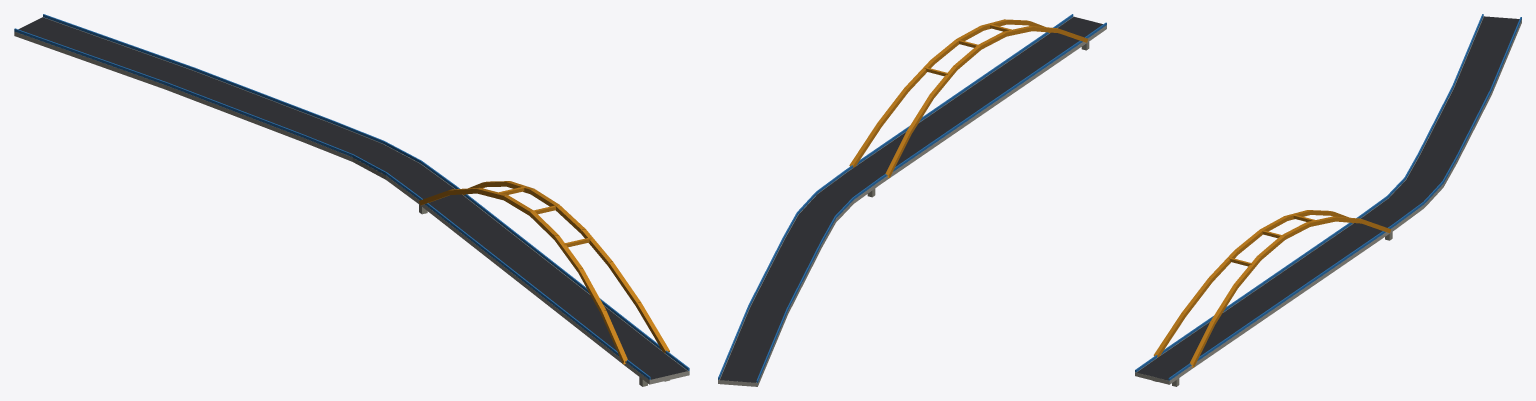
File: jembatan-siak-3-lod1.glb
3 views of the same model, side by side, from view 1: azimuth 30°, elevation 25°; view 2: azimuth 150°, elevation 25°; view 3: azimuth 330°, elevation 25° (orthographic). The views are drawn at different scales.
Visible parts, largest first — view 1: jembatan-siak-3_LOD1; view 2: jembatan-siak-3_LOD1; view 3: jembatan-siak-3_LOD1.
Boxes of the visible parts, left/top/right/bottom form: jembatan-siak-3_LOD1: left=14, top=14, right=689, bottom=386; jembatan-siak-3_LOD1: left=718, top=14, right=1106, bottom=386; jembatan-siak-3_LOD1: left=1135, top=14, right=1521, bottom=386.
Size of the model in its own units: 69.88 by 33.91 by 366.
